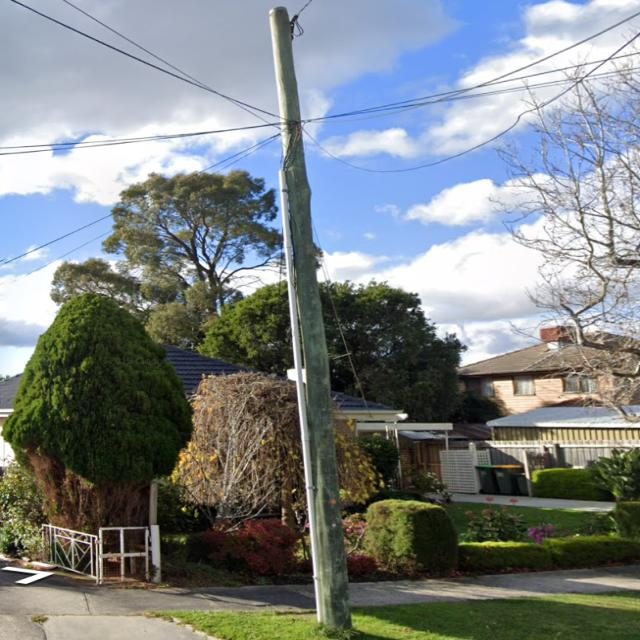timber-pole: (268, 8, 353, 633)
top mount suitable pole: (267, 7, 354, 634)
